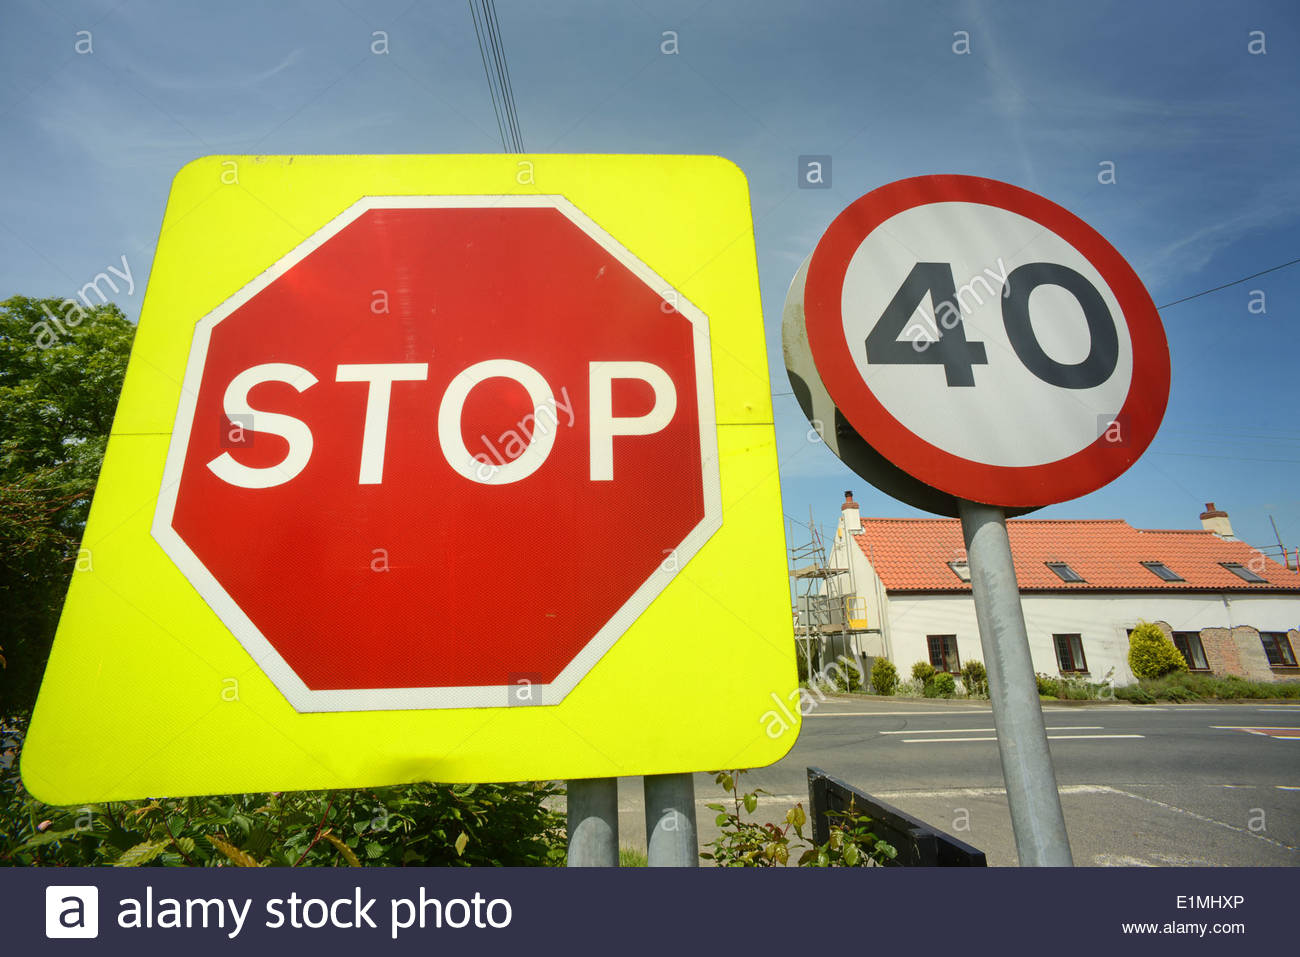Speed_limit_40km: (799, 172, 1181, 502)
